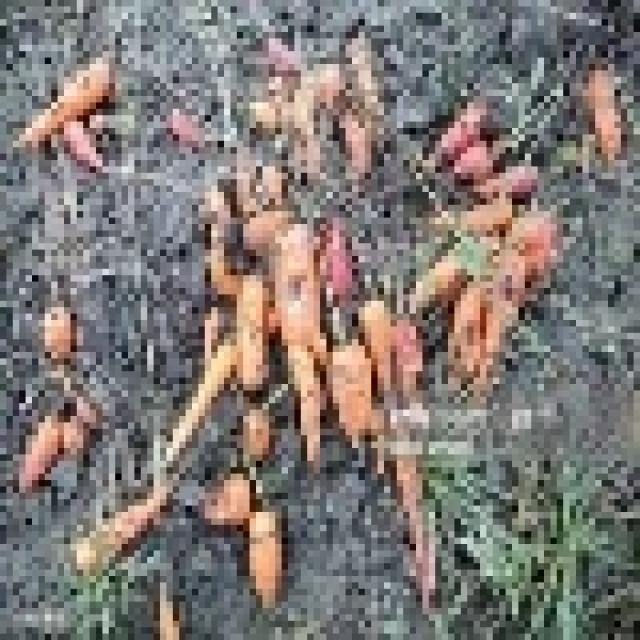Stale_Carrot: (17, 43, 574, 601)
